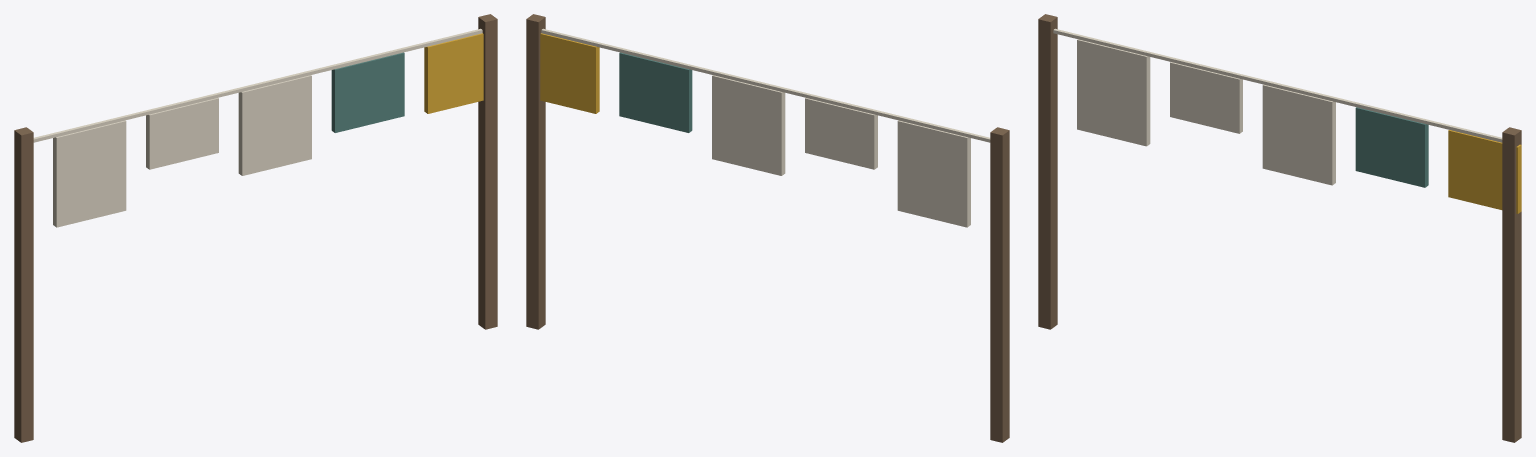
Rendered from camasir-ipi.glb.
3 views of the same model, side by side, from view 1: azimuth 30°, elevation 25°; view 2: azimuth 150°, elevation 25°; view 3: azimuth 330°, elevation 25° (orthographic).
Visible parts, largest first — view 1: bez, ahsap, ip, kepenk2, cicek2; view 2: bez, ahsap, ip, kepenk2, cicek2; view 3: bez, ahsap, ip, kepenk2, cicek2.
Part boxes in pixels (x1,y1,x2,y2): bez: (53,75,311,227); ahsap: (14,14,497,442); ip: (33,28,482,169); kepenk2: (331,52,404,132); cicek2: (424,33,483,113); bez: (712,75,970,227); ahsap: (526,14,1009,442); ip: (541,28,990,169); kepenk2: (619,52,692,132); cicek2: (540,33,599,113); bez: (1077,39,1335,185); ahsap: (1038,14,1521,442); ip: (1053,28,1502,142); kepenk2: (1355,107,1428,187); cicek2: (1448,130,1521,213).
Bounding box in the file's own units: 3.09 × 1.9 × 0.0801.
